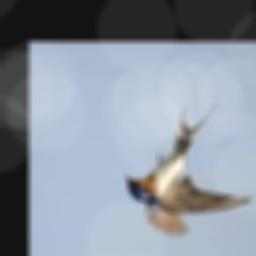Swallow: (126, 101, 251, 236)
